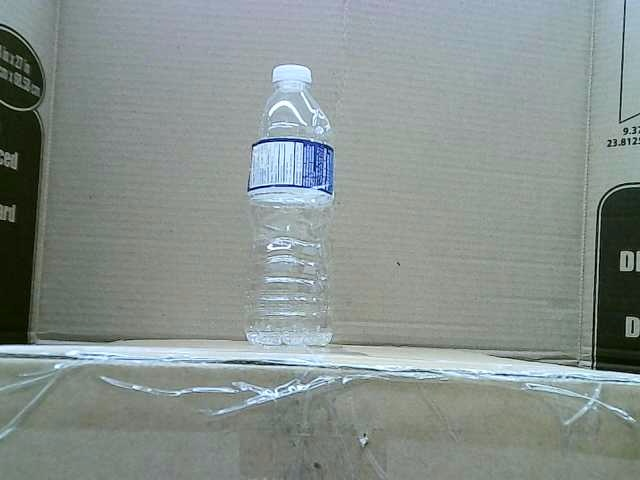WaterBottle: (243, 64, 335, 345)
